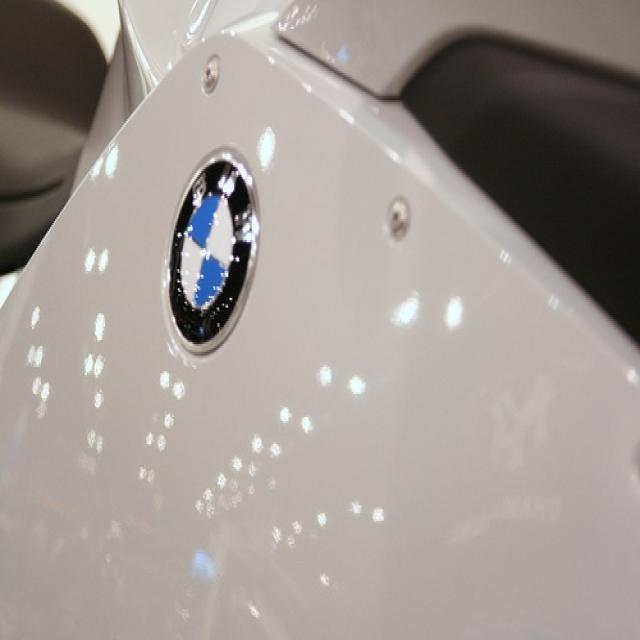bmw: (163, 142, 268, 361)
